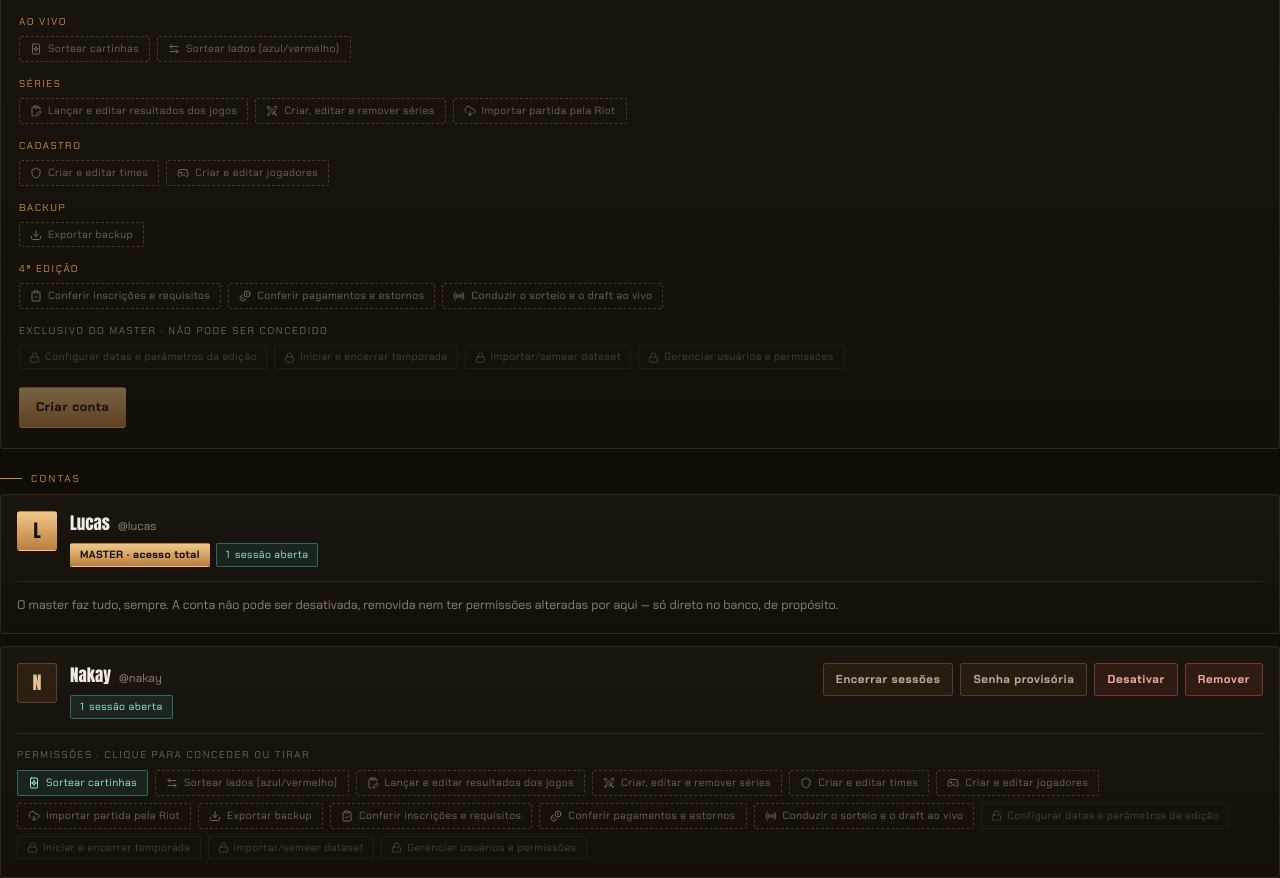
Test: senha provisória de admin na tela de Usuários › pede confirmação, gera pela rota da conta e mostra a senha uma vez
The width and height of the screenshot is (1280, 878).
(page scrolled)
Step 1. Click the button "Senha provisória" → (1024, 680), box [960, 663, 1087, 696]
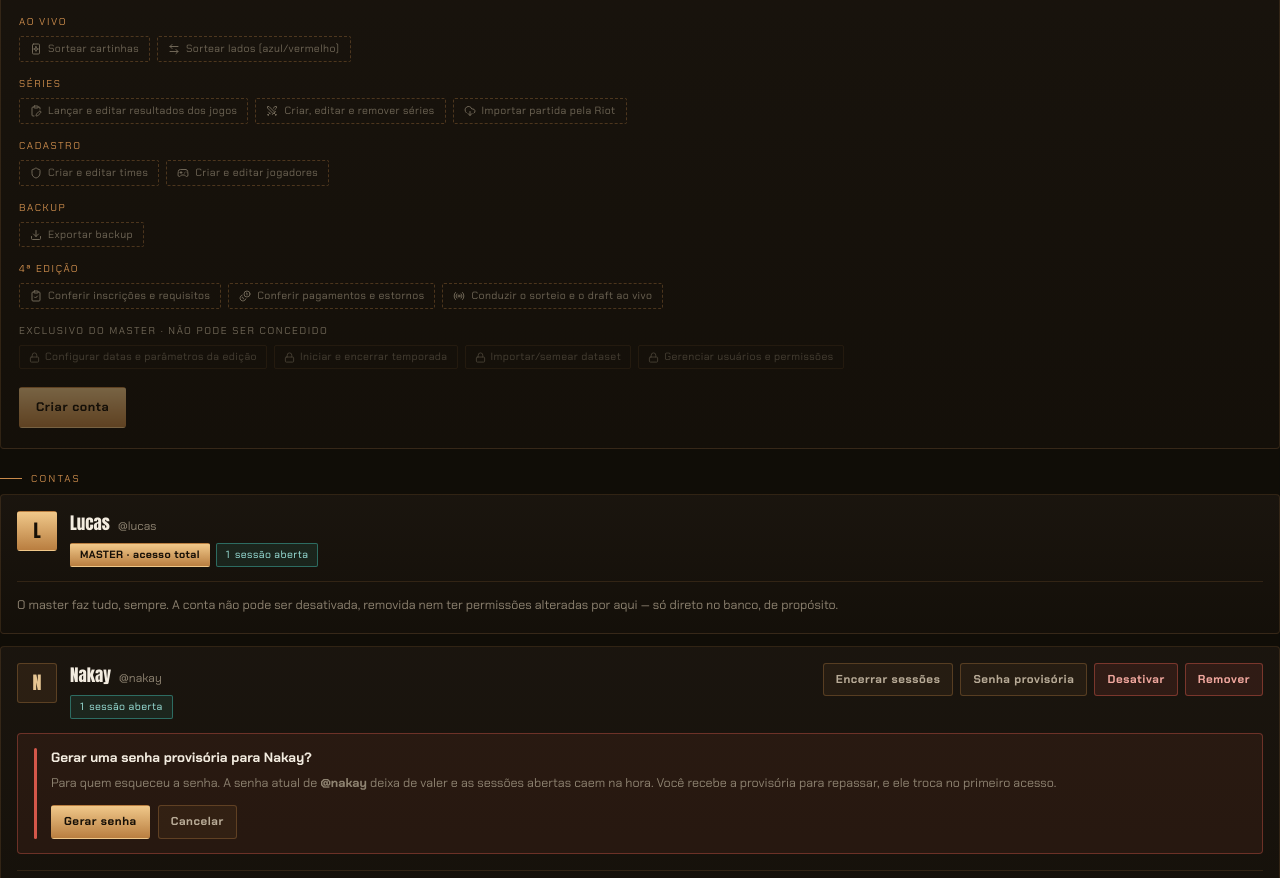
Expected: the text "Gerar uma senha provisória para Nakay?" is shown, [51, 749, 312, 766]
Step 2. Click the button "Gerar senha" → (100, 822), box [51, 805, 150, 839]
(page scrolled)
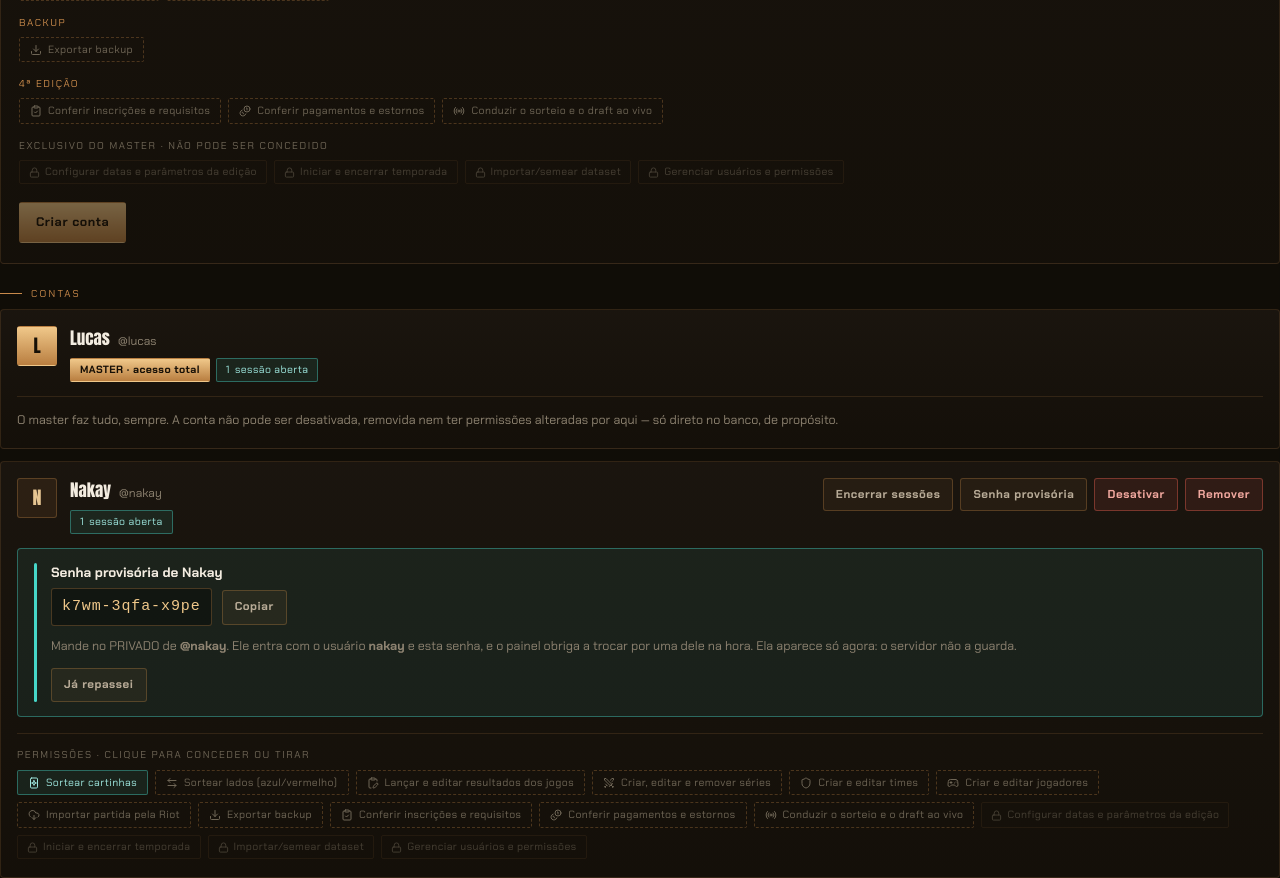
Expected: the text "k7wm-3qfa-x9pe" is shown, [62, 598, 201, 615]
Step 3. Click the button "Já repassei" → (99, 685), box [51, 668, 147, 702]
(page scrolled)
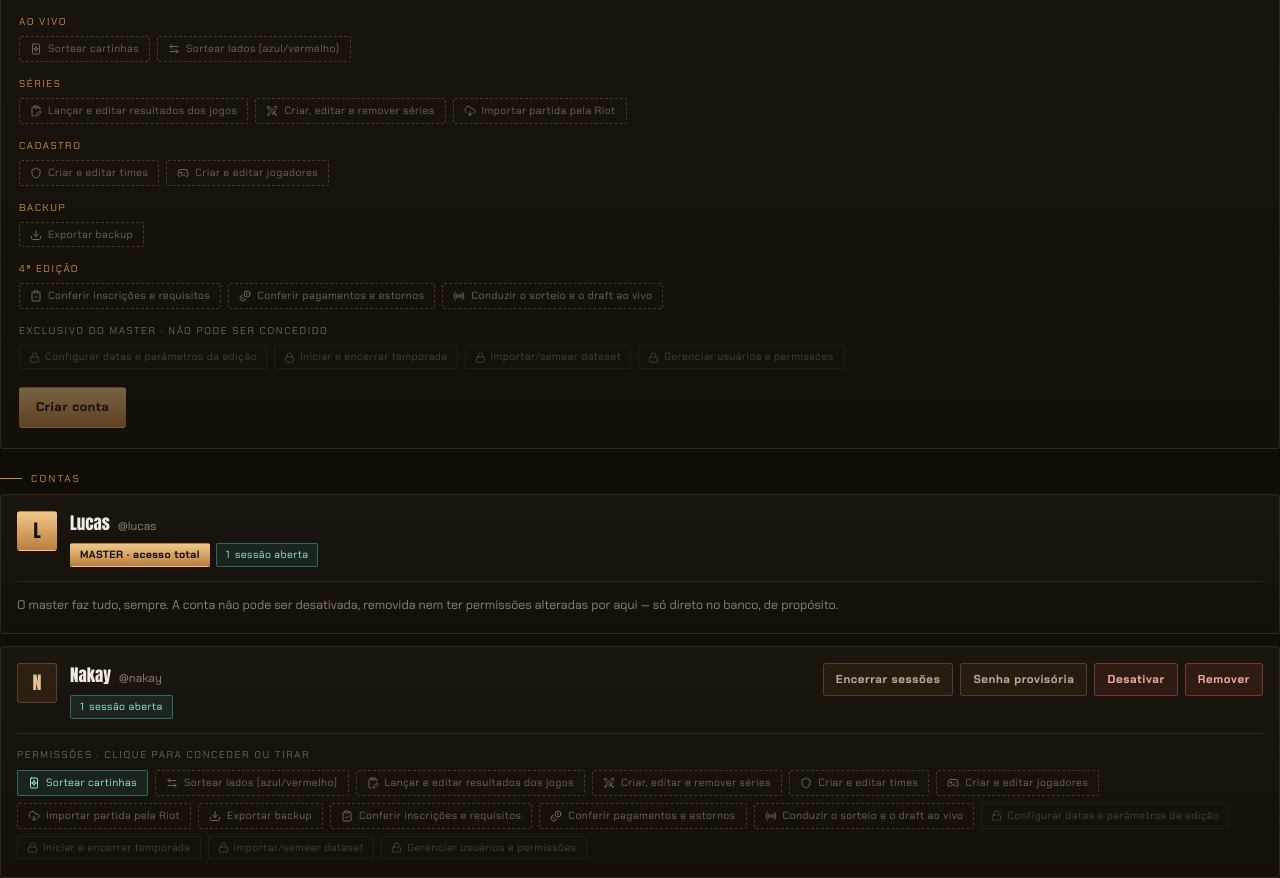
Expected: the text "k7wm-3qfa-x9pe" is gone
